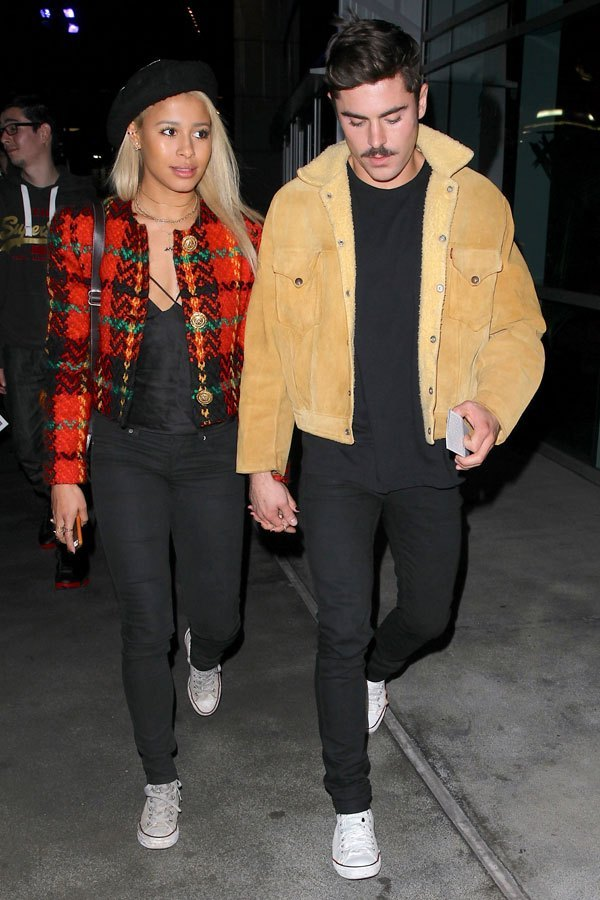Person: (233, 11, 547, 884), (35, 46, 305, 848)
